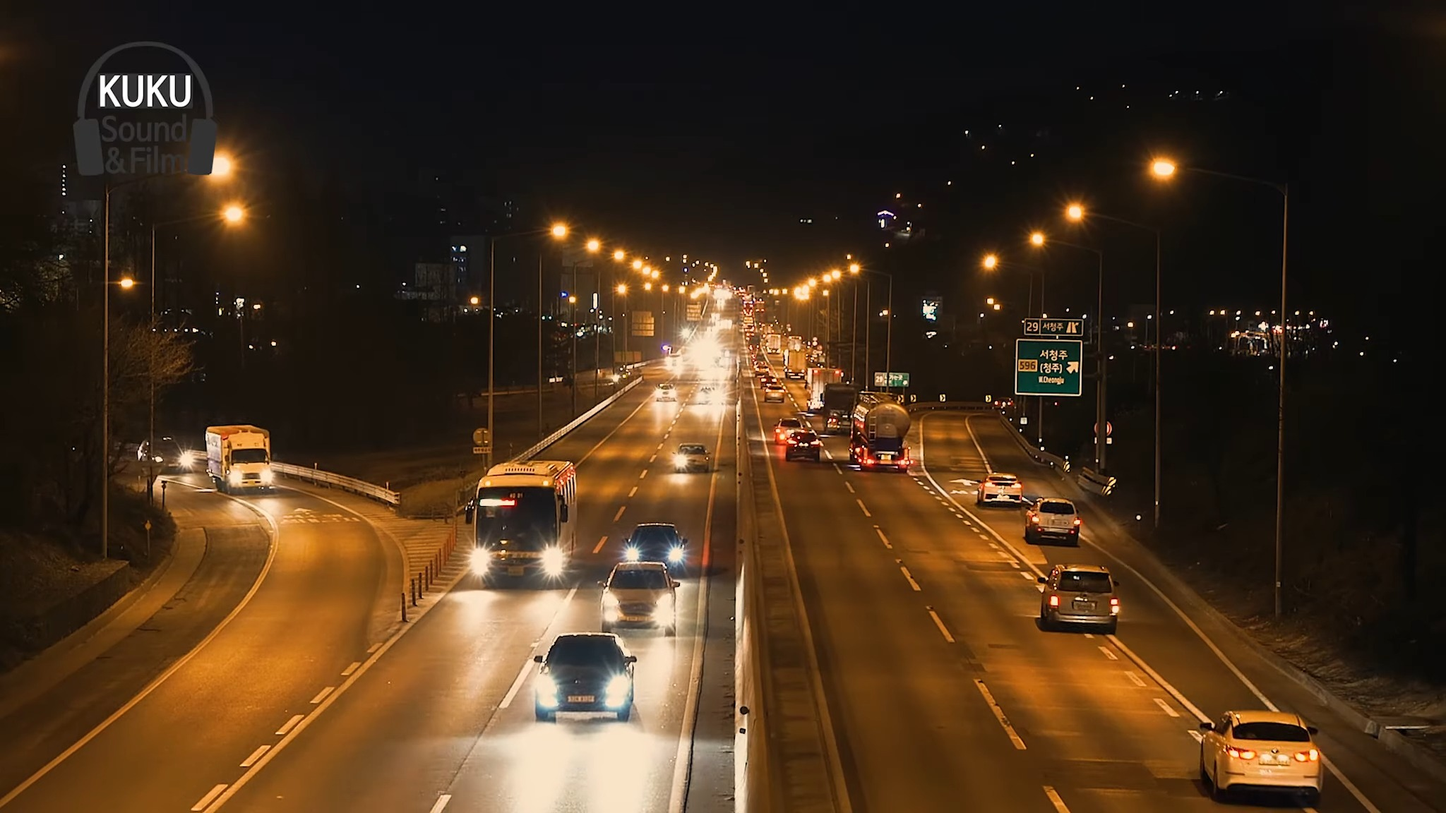car: (1206, 706, 1329, 802), (533, 625, 638, 735), (1045, 561, 1126, 639), (600, 563, 677, 638), (627, 519, 688, 573), (1024, 496, 1080, 546)
truck: (471, 457, 581, 586)
